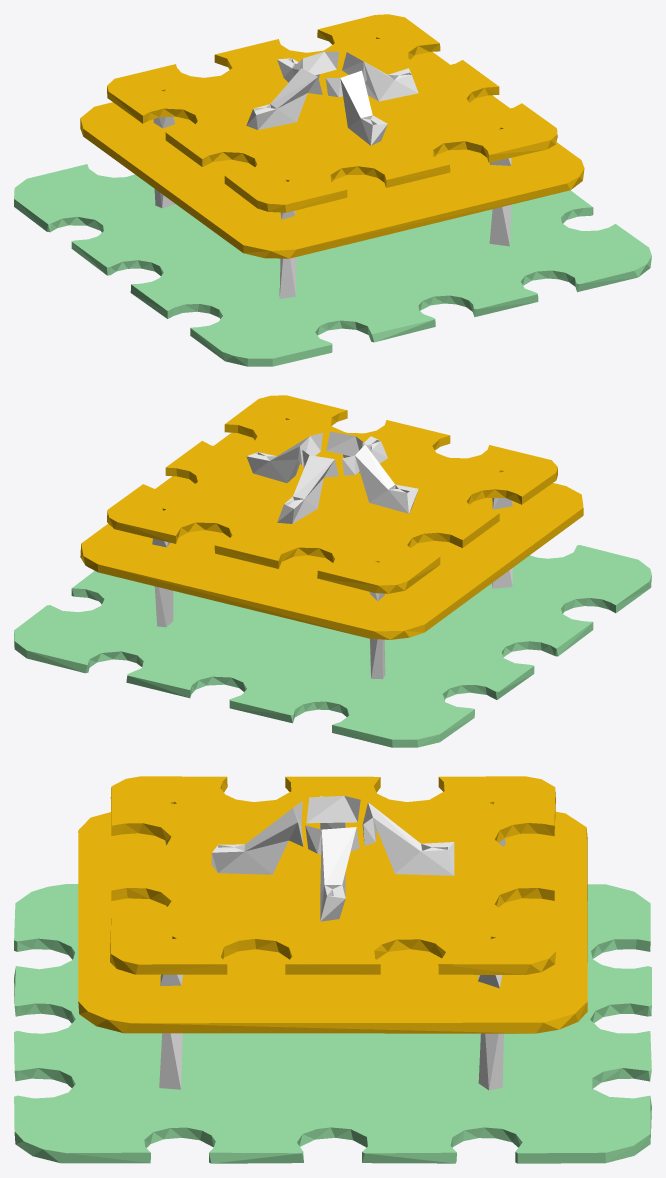
The picture shows the model from 3 angles, top to bottom: view 1: azimuth 30°, elevation 25°; view 2: azimuth 150°, elevation 25°; view 3: azimuth 270°, elevation 25°; orthographic projection. The views are drawn at different scales.
Parts seen in each view (by area): view 1: be, be 2, gia_co; view 2: be, be 2, gia_co; view 3: be, be 2, gia_co.
Boxes of the visible parts, box(x1,y1,x2,y2) form: be: box(80, 14, 584, 258); be 2: box(14, 164, 651, 366); gia_co: box(153, 51, 511, 298); be: box(80, 395, 583, 639); be 2: box(14, 545, 651, 747); gia_co: box(152, 431, 512, 679); be: box(78, 776, 587, 1033); be 2: box(14, 884, 651, 1163); gia_co: box(159, 796, 505, 1090).
Bounding box in the file's own units: 0.4998 × 0.4998 × 0.1873.
